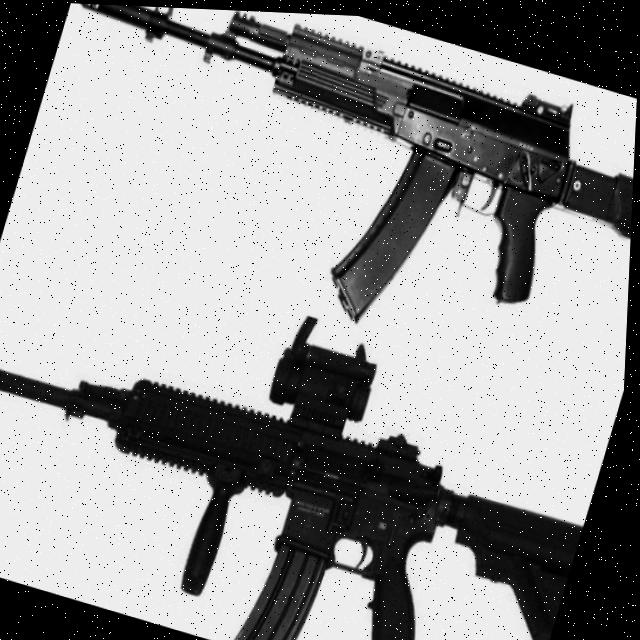firearm: (0, 218, 629, 640), (7, 1, 640, 399)
